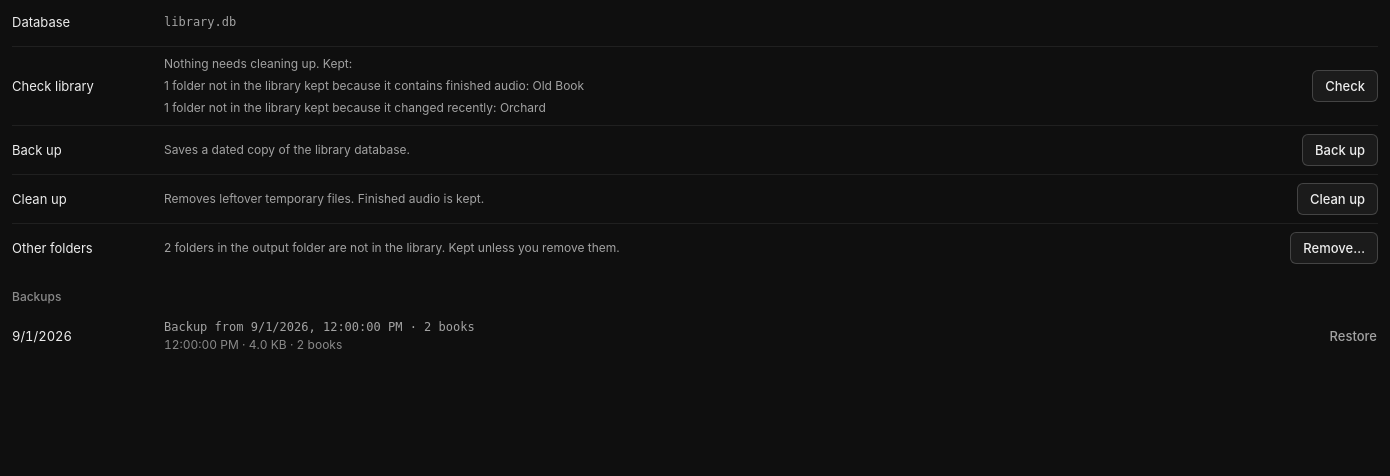
it: LibraryMaintenanceSection › deletes the folders not in the library only after an inline confirmation that lists them
Click the button with id "library-unowned-btn". click: x=1334, y=248
box: [1290,232,1378,264]
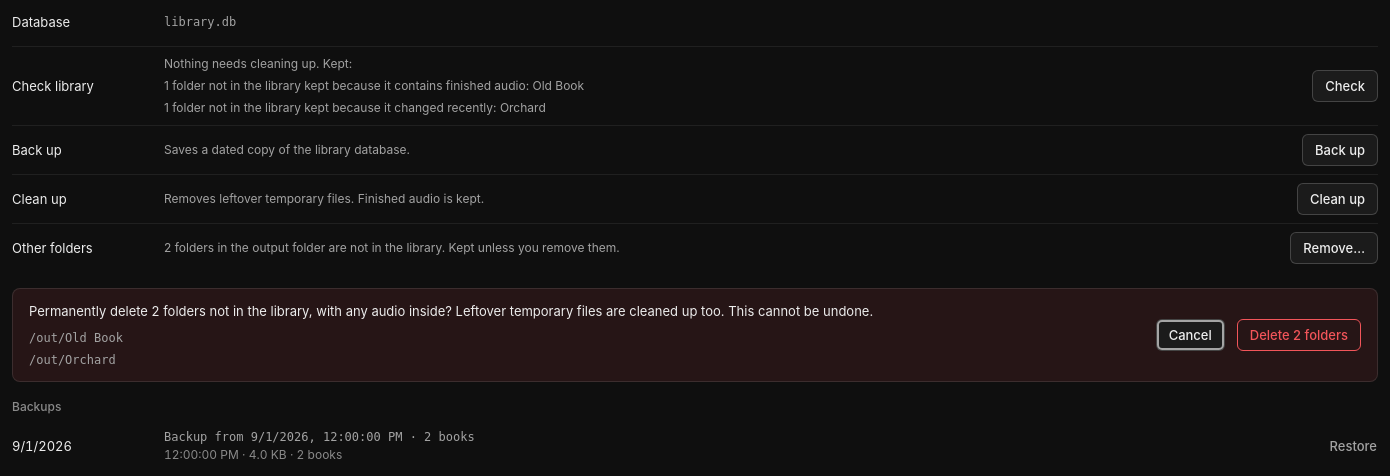
Check: the element with class "inline-confirm" shows "Permanently delete 2 folders not in the library"
Press Escape in the element with class "inline-confirm", box [12,288,1378,382]
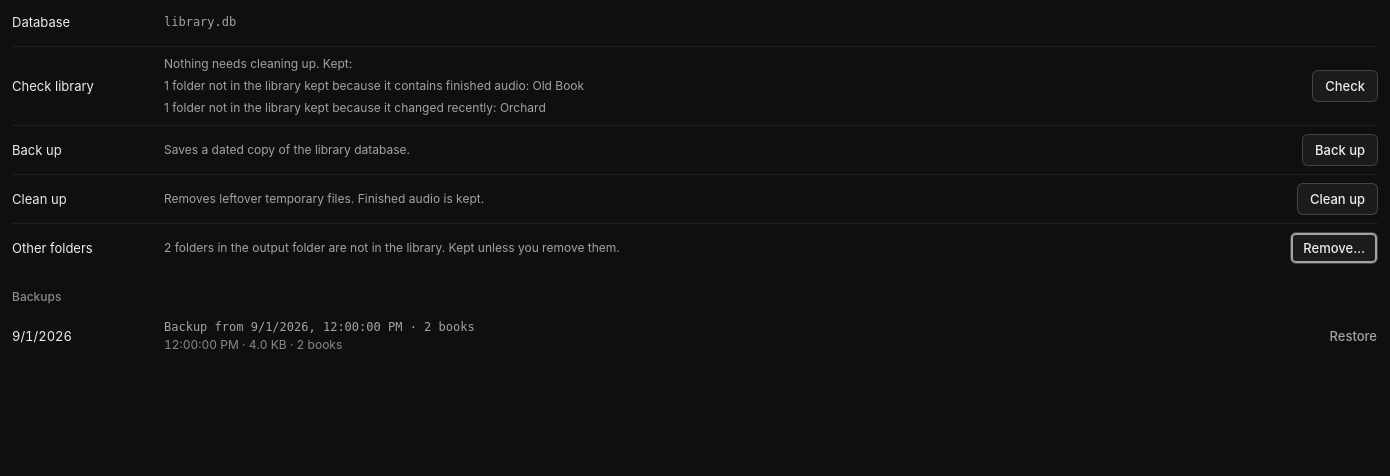
Check: the element with class "inline-confirm" is gone
Click the button with id "library-unowned-btn". click: x=1334, y=248
box: [1290,232,1378,264]
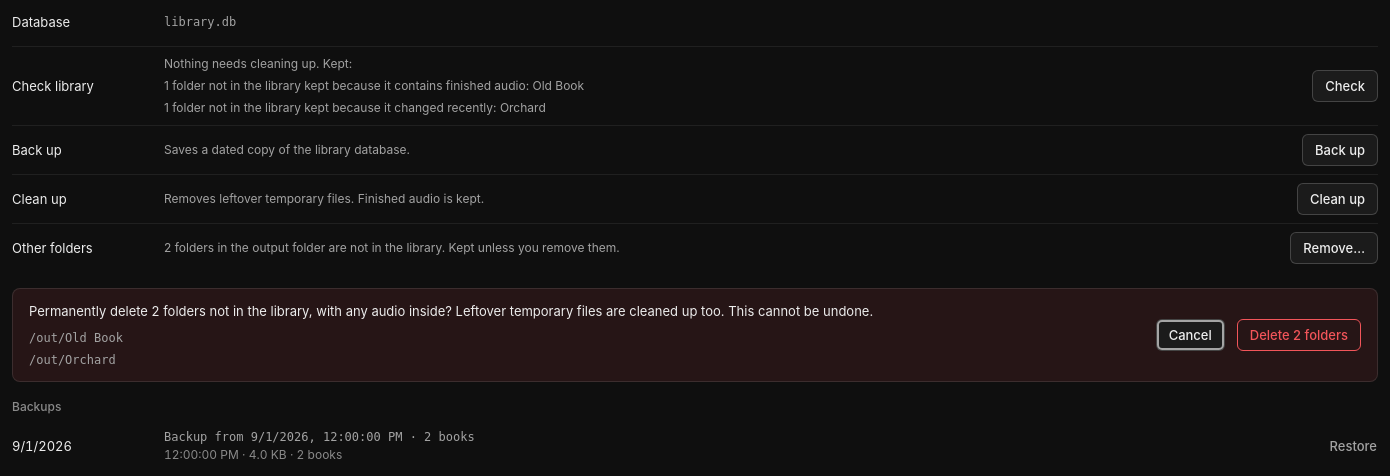
Check: the button with id "library-unowned-confirm-btn" reads "Delete 2 folders"
Click the button with id "library-unowned-confirm-btn". click: x=1299, y=335
box: [1237,319,1361,351]
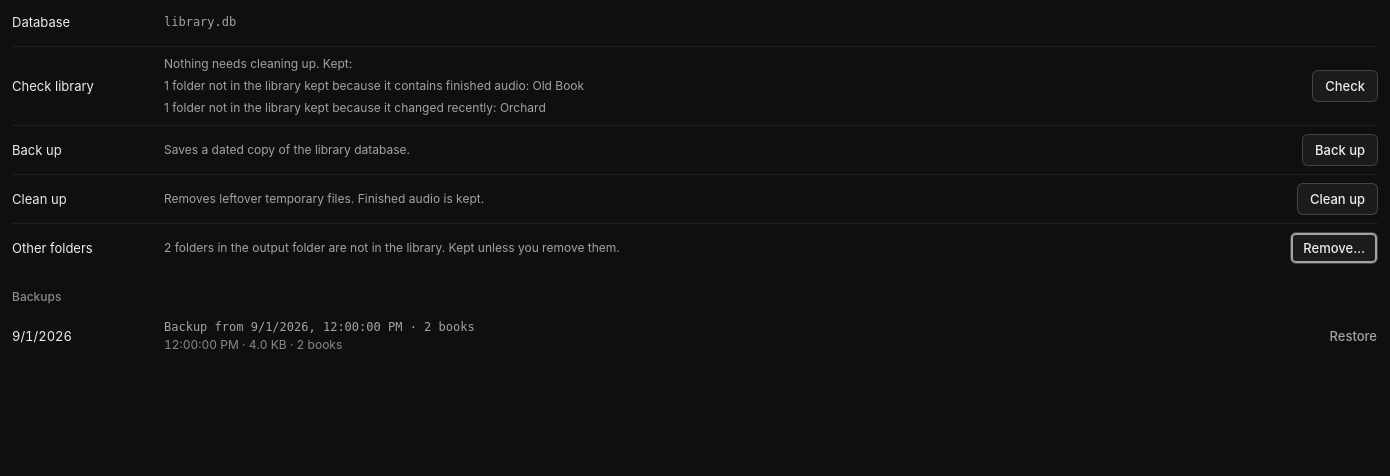
Check: the element with class "inline-confirm" is gone
